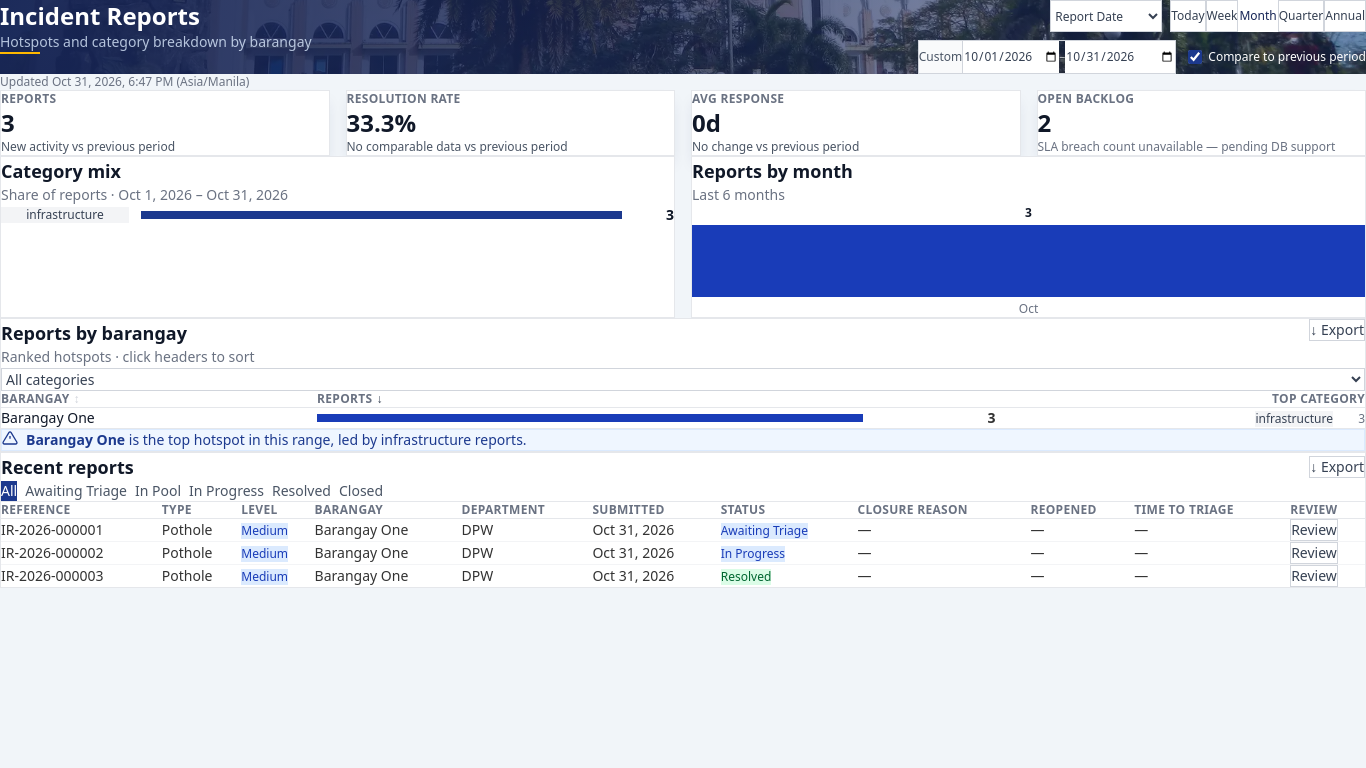
Scenario: IssueReportsPage › status tabs filter on the real incident_status enum values
Expected: the text "IR-2026-000001" is shown, [1,518,162,542]
Click the tab "In Progress": (227, 491) [189,481,264,501]
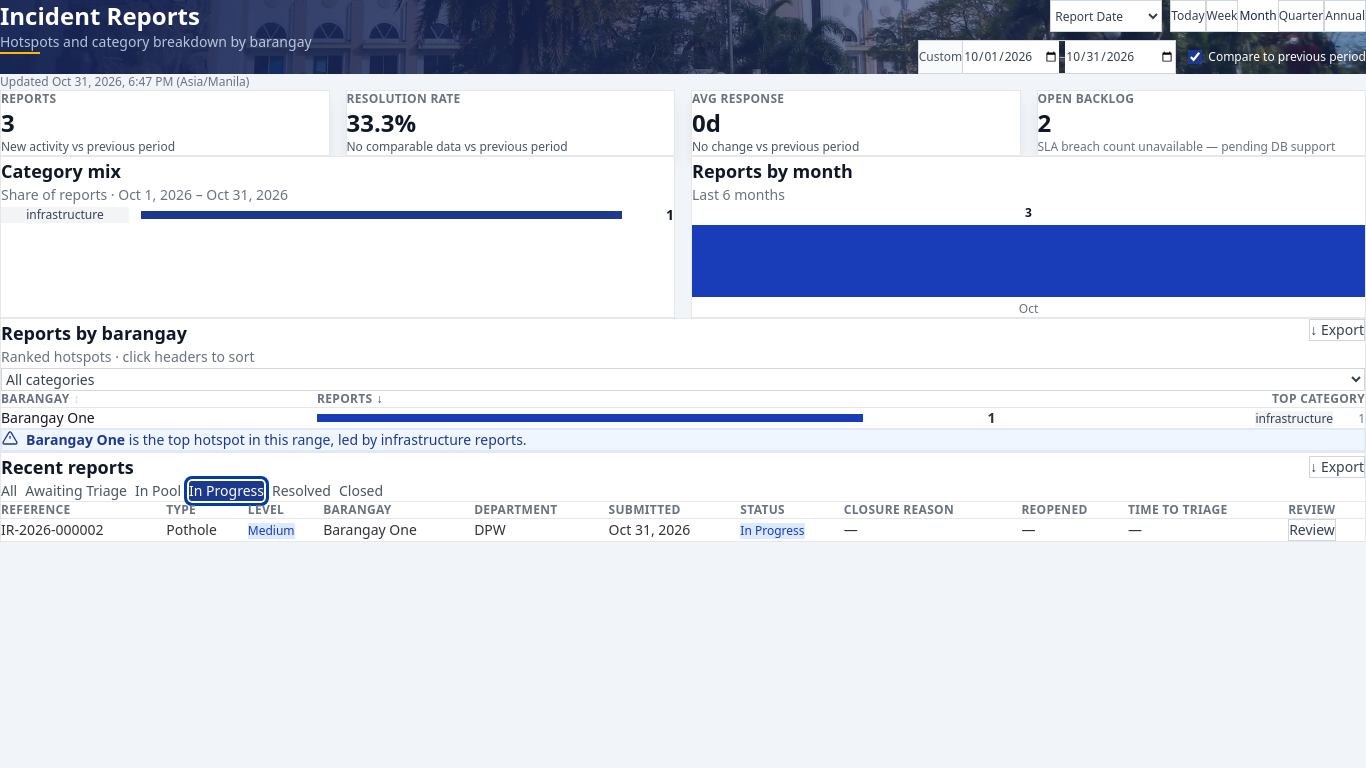
Expected: the text "IR-2026-000002" is shown, [1,518,166,541]
Now the text "IR-2026-000001" is gone
Now the text "IR-2026-000003" is gone
Click the tab "Resolved": (302, 491) [272,481,331,501]
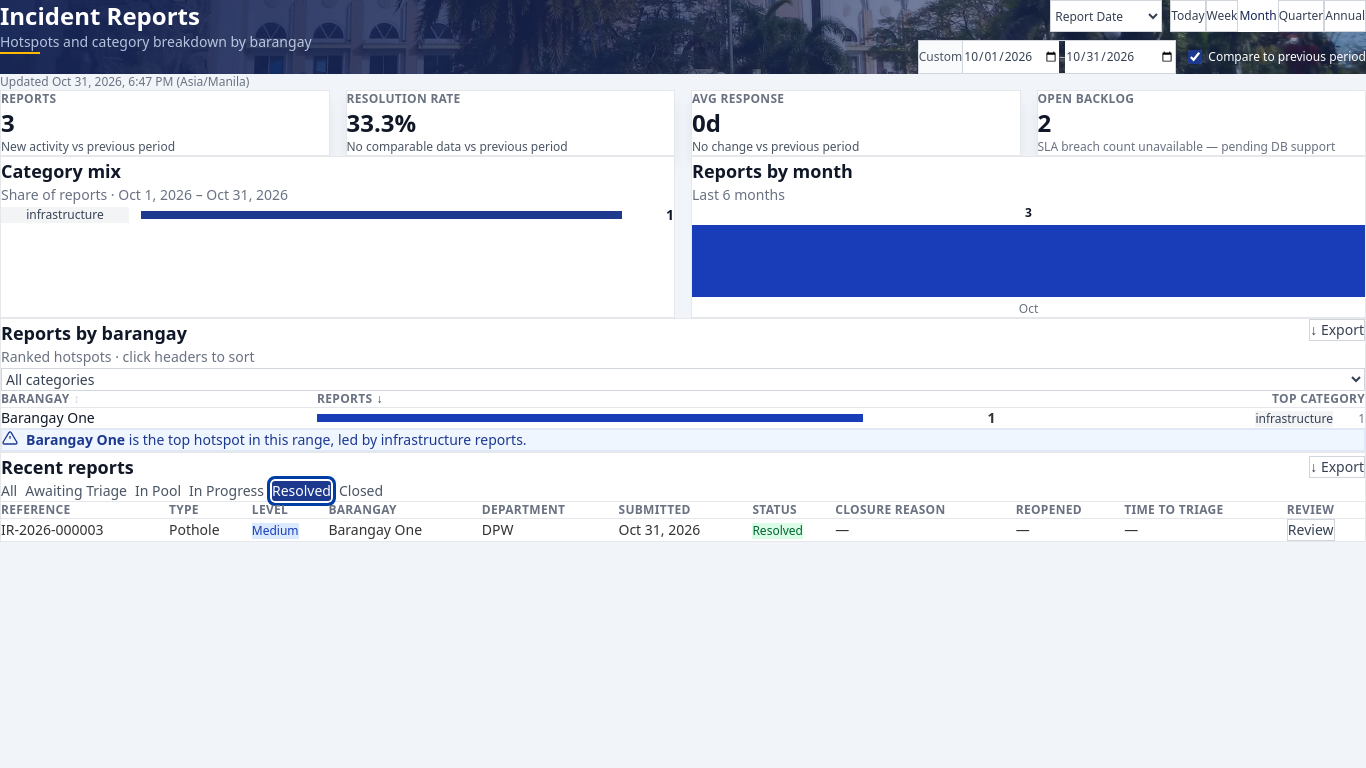
Now the text "IR-2026-000003" is shown, box [1,518,169,541]
Now the text "IR-2026-000002" is gone
Click the tab "All": (9, 491) [1,481,17,501]
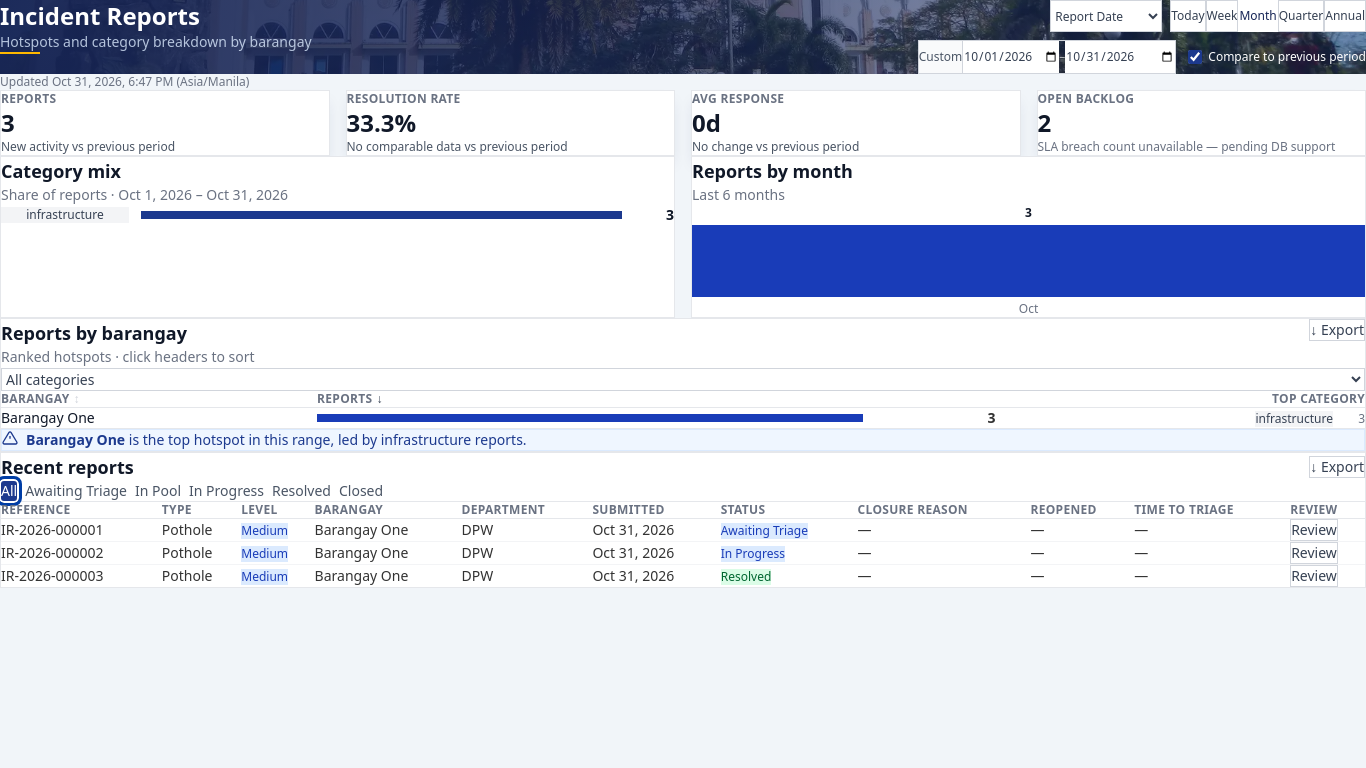
Now the text "IR-2026-000003" is shown, box [1,564,162,587]
Now the text "IR-2026-000001" is shown, box [1,518,162,542]
Now the text "IR-2026-000002" is shown, box [1,542,162,564]
